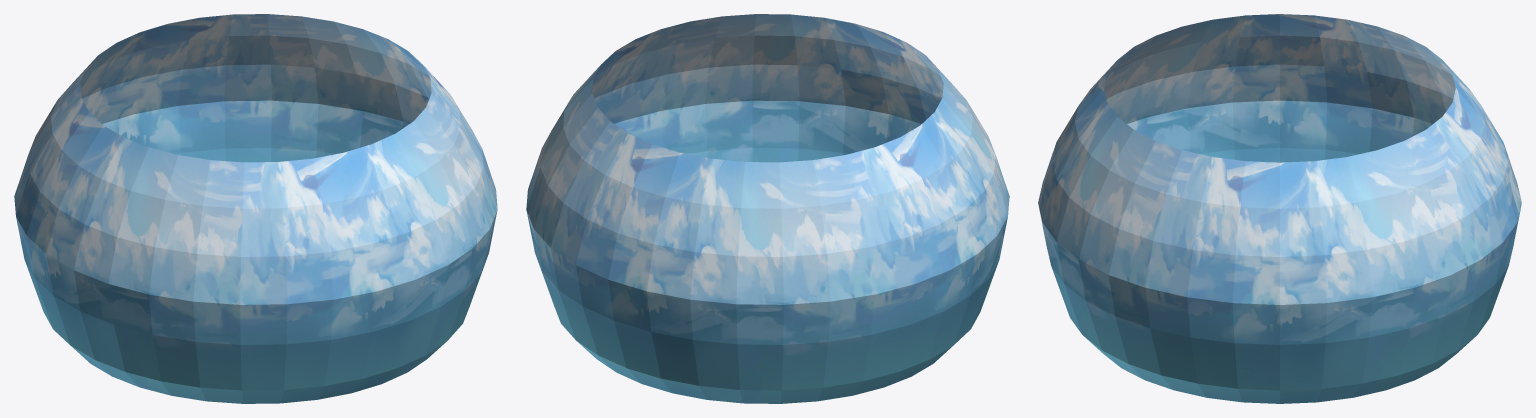
Rendered from gonghui_sky_01 #60750.fbx.
The picture shows the model from 3 angles, left to right: view 1: azimuth 30°, elevation 25°; view 2: azimuth 150°, elevation 25°; view 3: azimuth 270°, elevation 25°; orthographic projection.
Parts seen in each view (by area): view 1: gonghui_sky_01; view 2: gonghui_sky_01; view 3: gonghui_sky_01.
Part boxes in pixels (box(x1,y1,x2,y2)): gonghui_sky_01: box(14, 14, 497, 403); gonghui_sky_01: box(526, 14, 1009, 403); gonghui_sky_01: box(1038, 14, 1521, 403).
Bounding box in the file's own units: 2081 × 1229 × 2081.
